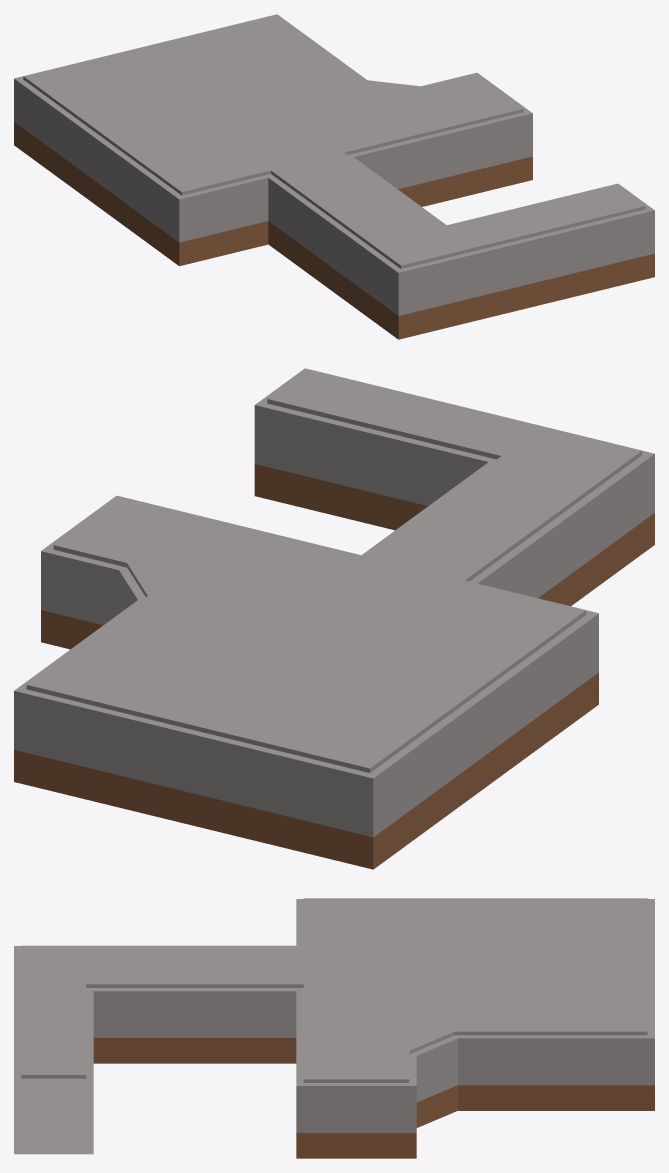
The model's file is Art Gallery 1.fbx.
3 views of the same model, one above another, from view 1: azimuth 30°, elevation 25°; view 2: azimuth 150°, elevation 25°; view 3: azimuth 270°, elevation 25° (orthographic). The views are drawn at different scales.
Parts seen in each view (by area): view 1: Art Gallery; view 2: Art Gallery; view 3: Art Gallery.
Boxes of the visible parts, left/top/right/bottom form: Art Gallery: left=14, top=14, right=654, bottom=339; Art Gallery: left=14, top=368, right=654, bottom=869; Art Gallery: left=14, top=898, right=654, bottom=1158.
Bounding box in the file's own units: 2117 × 402 × 3065.
